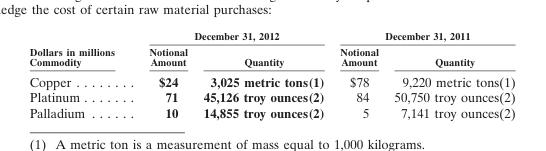table: (28, 29, 514, 119)
table column: (194, 29, 331, 119), (385, 29, 514, 119), (28, 29, 131, 119), (131, 29, 194, 119), (331, 29, 385, 119)
table column header: (28, 29, 514, 70)
table row: (28, 43, 514, 70), (28, 70, 514, 88), (28, 88, 514, 104), (28, 104, 514, 119), (28, 29, 514, 43)
table spanning cell: (28, 29, 131, 70), (131, 29, 331, 43), (331, 29, 514, 43)
